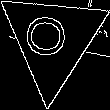O_E: (27, 16, 77, 64)
